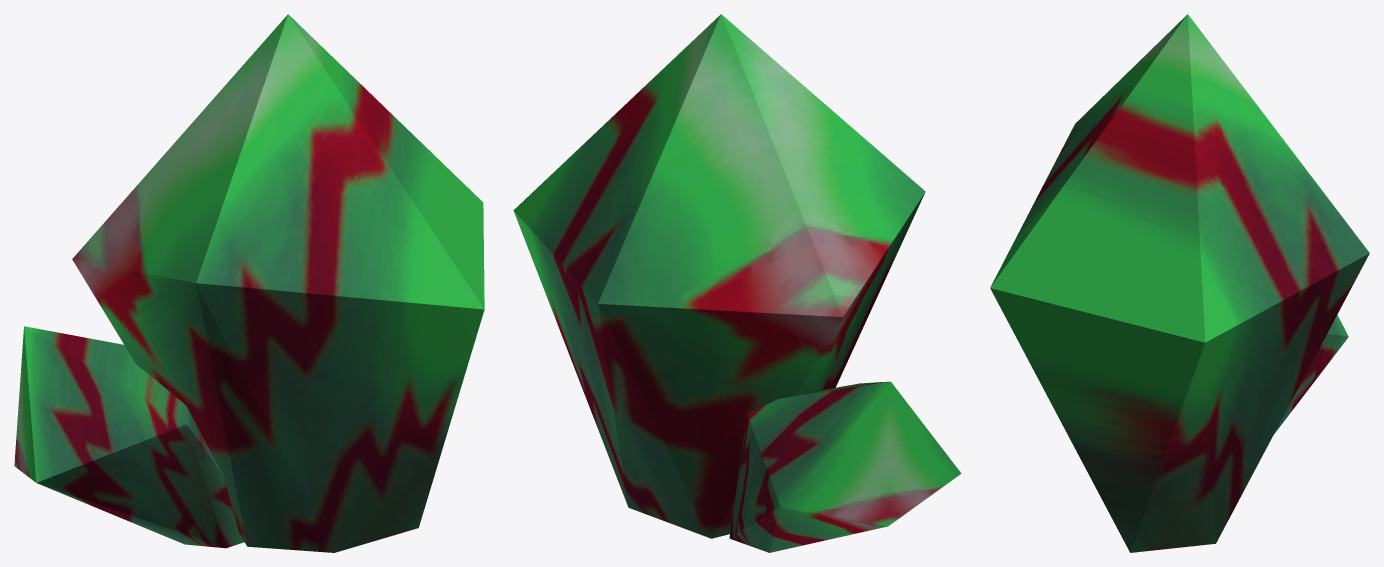
File: BerkoniumOre.fbx
3 renders of one model, left to right at view 1: azimuth 30°, elevation 25°; view 2: azimuth 150°, elevation 25°; view 3: azimuth 270°, elevation 25°, orthographic. The views are drawn at different scales.
Visible parts, largest first — view 1: Rock; view 2: Rock; view 3: Rock.
Boxes of the visible parts, x1,y1,x2,y2 form: Rock: (14,14,484,552); Rock: (513,14,961,552); Rock: (990,14,1369,552).
Bounding box in the file's own units: 1.01 × 1.09 × 0.7656.
